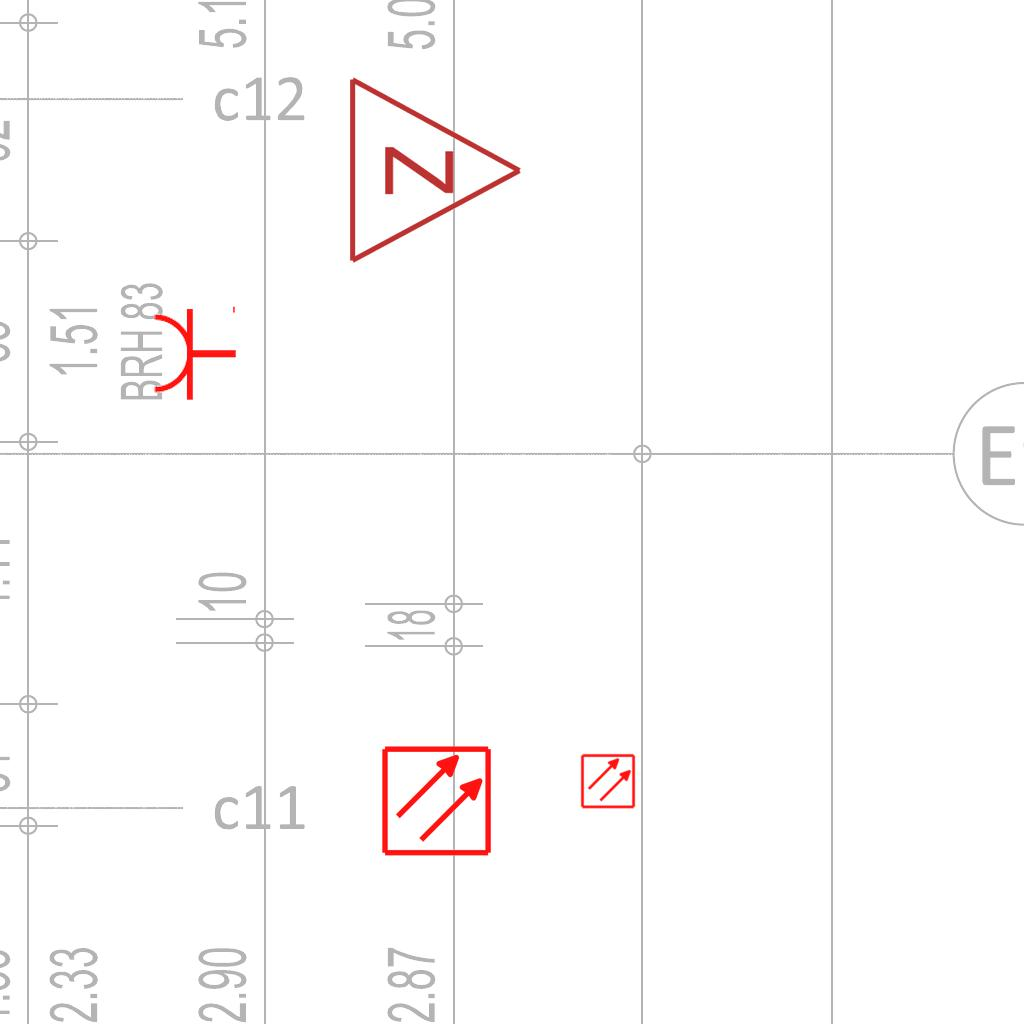RMO_Rauchmelder_optischer: (380, 744, 493, 857), (580, 753, 636, 809)
Schukosteckdose_einfach: (151, 302, 238, 402)
Zimmersignalleuchte: (335, 70, 535, 266)
